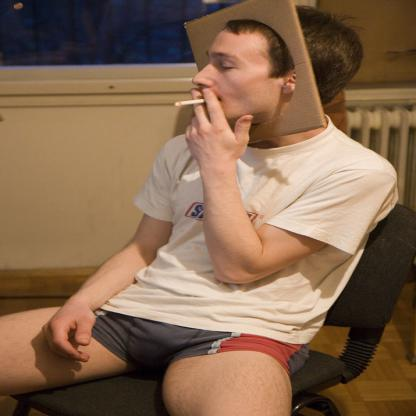smoking: (175, 99, 219, 107)
